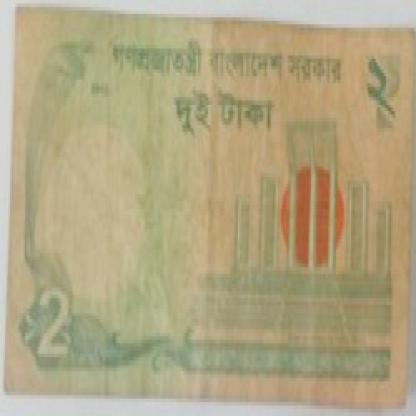two taka: (32, 284, 78, 392), (359, 49, 398, 135)
